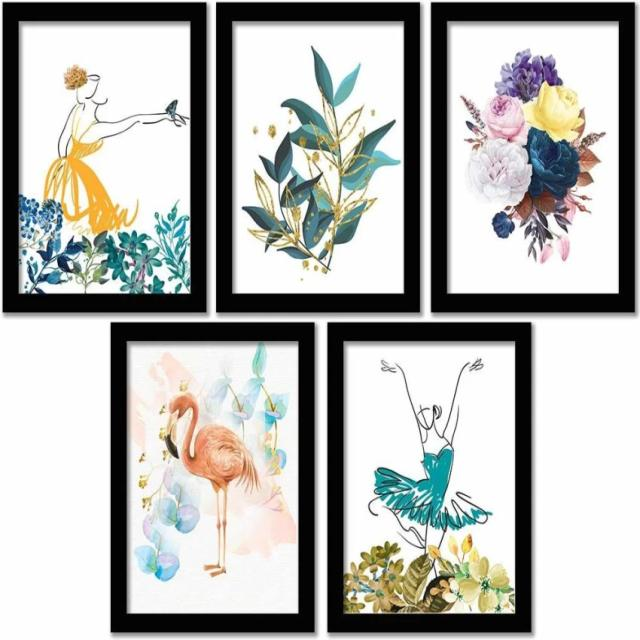painting: (3, 0, 207, 311), (217, 0, 421, 311), (432, 0, 636, 311), (111, 322, 315, 632), (327, 322, 530, 632)
